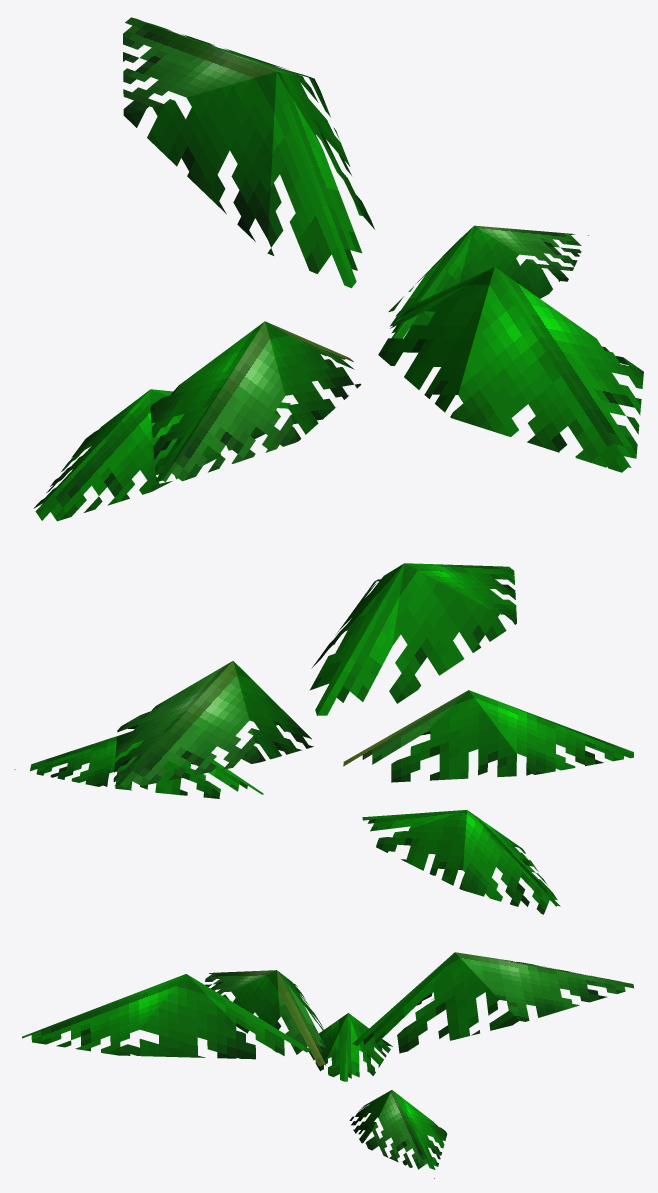
The model's file is bush_secondary.glb.
The picture shows the model from 3 angles, top to bottom: view 1: azimuth 30°, elevation 25°; view 2: azimuth 150°, elevation 25°; view 3: azimuth 270°, elevation 25°; orthographic projection. The views are drawn at different scales.
Visible parts, largest first — view 1: Object; view 2: Object; view 3: Object.
Part boxes in pixels (left/top/right/bottom): Object: left=33, top=17, right=643, bottom=521; Object: left=14, top=563, right=633, bottom=914; Object: left=22, top=952, right=633, bottom=1178.
Size of the model in its own units: 2.96 by 1.38 by 4.07.
Materials: 3 (3 with a texture image).
